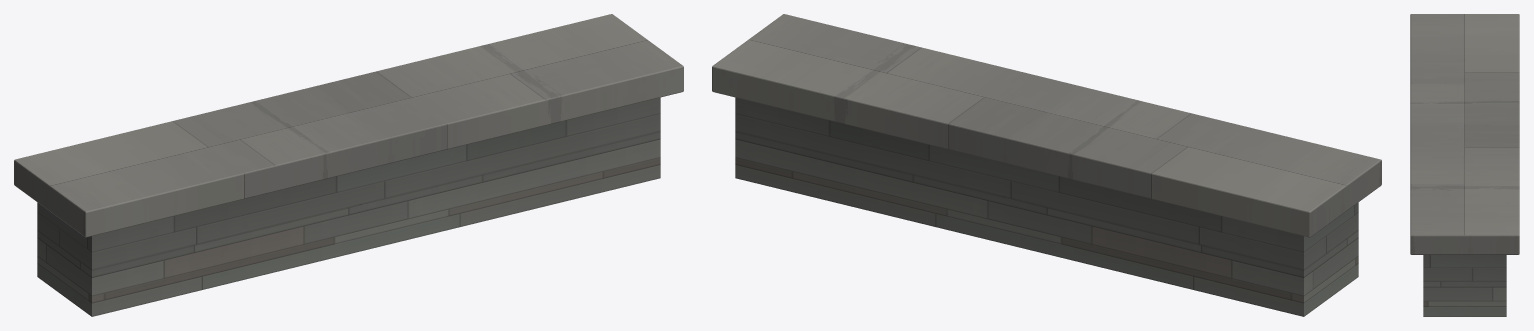
File: ph_bench_short.gltf
The picture shows the model from 3 angles, left to right: view 1: azimuth 30°, elevation 25°; view 2: azimuth 150°, elevation 25°; view 3: azimuth 270°, elevation 25°; orthographic projection. The views are drawn at different scales.
Parts seen in each view (by area): view 1: PHBenchShort_Top, PHBenchShort_Plinth; view 2: PHBenchShort_Top, PHBenchShort_Plinth; view 3: PHBenchShort_Top, PHBenchShort_Plinth.
Boxes of the visible parts, x1,y1,x2,y2 form: PHBenchShort_Top: (14,14,683,237); PHBenchShort_Plinth: (37,97,660,316); PHBenchShort_Top: (712,14,1381,237); PHBenchShort_Plinth: (735,97,1358,316); PHBenchShort_Top: (1410,14,1519,254); PHBenchShort_Plinth: (1423,255,1506,316).
Size of the model in its own units: 2.4 by 0.4401 by 0.5.
Materials: 2 (2 with a texture image).
